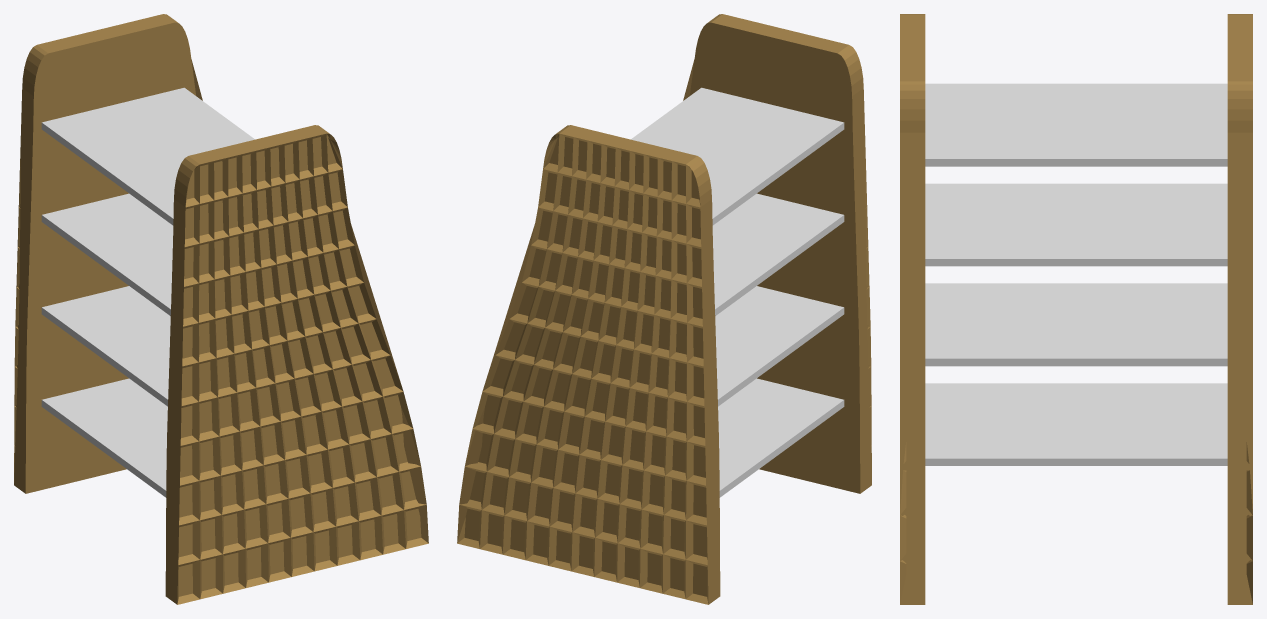
Rendered from shelf.fbx.
3 renders of one model, left to right at view 1: azimuth 30°, elevation 25°; view 2: azimuth 150°, elevation 25°; view 3: azimuth 270°, elevation 25°, orthographic. The views are drawn at different scales.
Visible parts, largest first — view 1: Cube, Cube.001, Cube.002, Cube.003, Cube.004, Cube.005; view 2: Cube.001, Cube, Cube.002, Cube.003, Cube.004, Cube.005; view 3: Cube.002, Cube.003, Cube.004, Cube.005, Cube, Cube.001.
Part boxes in pixels (box(x1,y1,x2,y2)): Cube: box(165, 125, 428, 604); Cube.001: box(14, 14, 202, 493); Cube.002: box(41, 87, 254, 225); Cube.003: box(41, 193, 173, 315); Cube.004: box(41, 286, 170, 406); Cube.005: box(41, 378, 167, 497); Cube.001: box(457, 125, 720, 604); Cube: box(683, 14, 871, 493); Cube.002: box(631, 87, 844, 225); Cube.003: box(712, 193, 844, 315); Cube.004: box(715, 286, 844, 406); Cube.005: box(718, 378, 844, 497); Cube.002: box(925, 83, 1227, 166); Cube.003: box(925, 183, 1227, 266); Cube.004: box(925, 283, 1227, 366); Cube.005: box(925, 383, 1227, 465); Cube: box(900, 14, 925, 604); Cube.001: box(1227, 14, 1252, 604).
Size of the model in its own units: 96.09 by 141 by 85.4.
